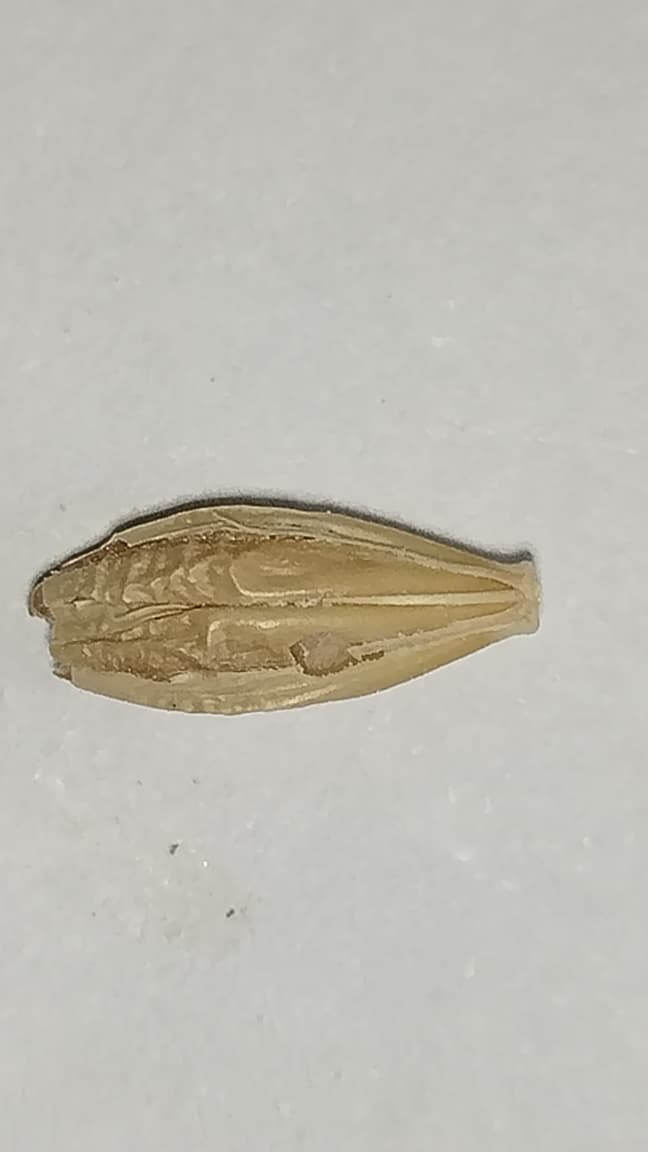healthy-70-60: (33, 503, 538, 713)
insectdamage: (288, 627, 393, 678)
shriveledseed: (75, 510, 293, 683)
